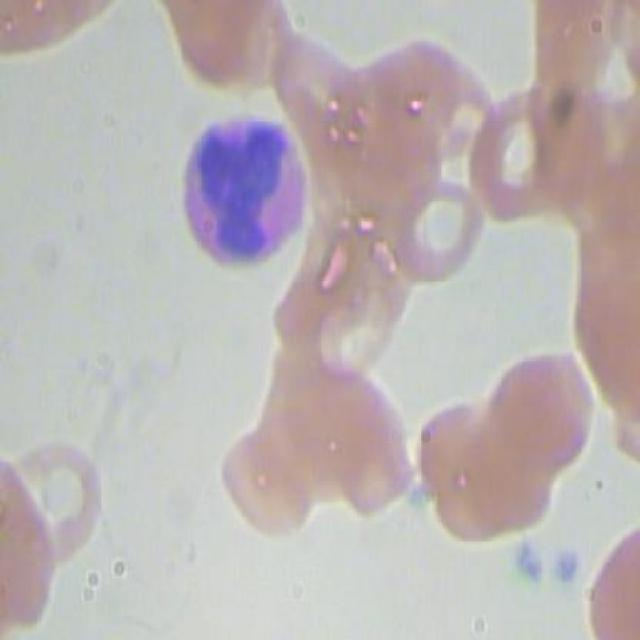Platelets: (548, 540, 586, 592), (512, 535, 550, 587)
RBC: (460, 85, 565, 230), (5, 425, 110, 570), (489, 336, 596, 476), (267, 22, 364, 156), (322, 388, 416, 522), (409, 386, 503, 520), (221, 420, 322, 542), (393, 170, 487, 285)
WBC: (165, 95, 317, 287)
